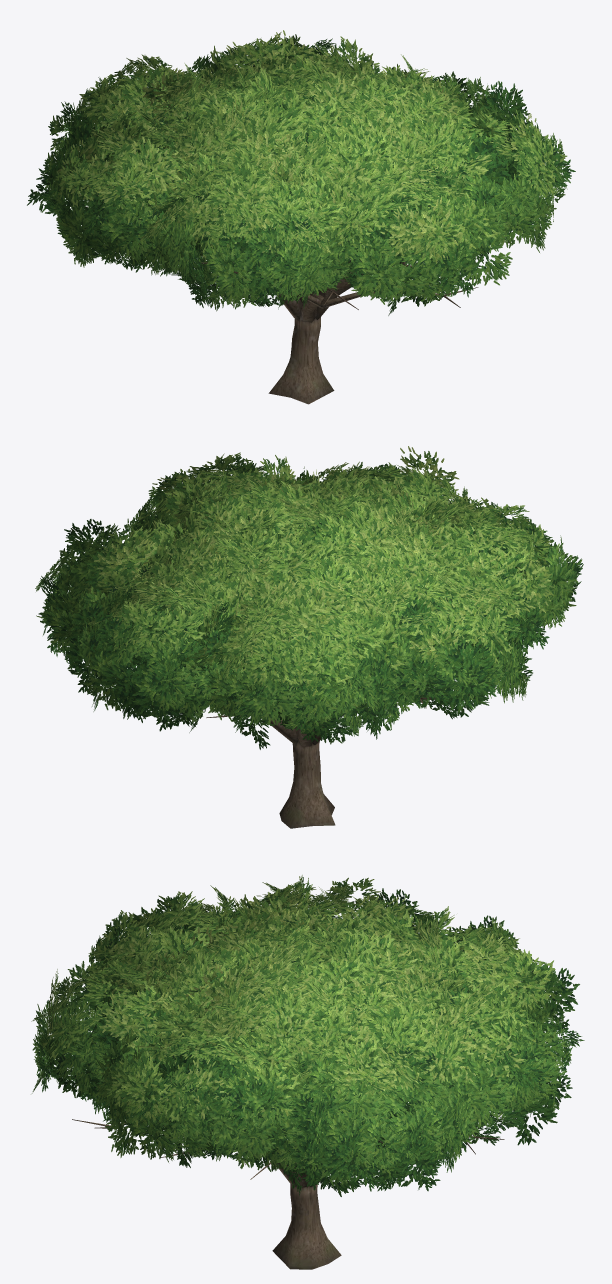
The model's file is tree_raintree.glb.
3 renders of one model, top to bottom at view 1: azimuth 30°, elevation 25°; view 2: azimuth 150°, elevation 25°; view 3: azimuth 270°, elevation 25°, orthographic. The views are drawn at different scales.
Parts seen in each view (by area): view 1: leaves, trunk; view 2: leaves, trunk; view 3: leaves, trunk.
Part boxes in pixels (x1,y1,x2,y2): leaves: (27, 30, 575, 315); trunk: (86, 206, 510, 404); leaves: (35, 446, 583, 749); trunk: (206, 697, 435, 828); leaves: (31, 875, 584, 1196); trunk: (72, 1119, 504, 1269).
Size of the model in its own units: 21.55 by 13.38 by 21.1.
2 materials, 2 textured.
